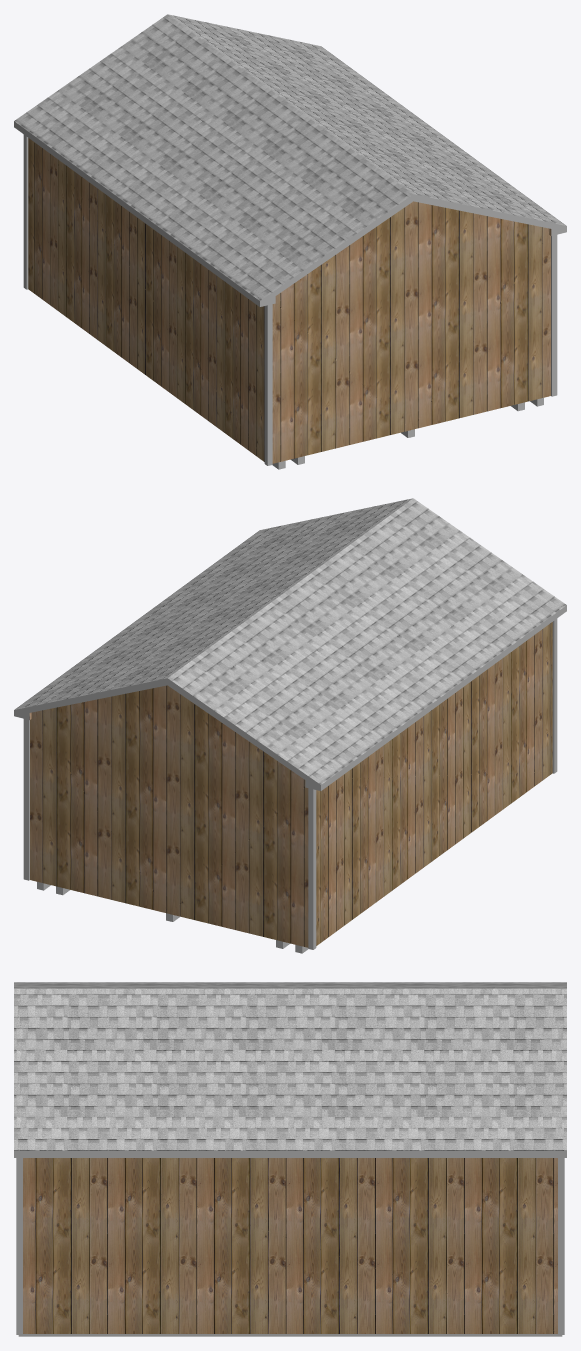
File: Single Garage A-frame_14x20.obj
3 renders of one model, top to bottom at view 1: azimuth 30°, elevation 25°; view 2: azimuth 150°, elevation 25°; view 3: azimuth 270°, elevation 25°, orthographic. The views are drawn at different scales.
Visible parts, largest first — view 1: Shed, Roof, Sides, Trim; view 2: Shed, Roof, Sides, Trim; view 3: Shed, Roof, Sides, Trim, Floor.
Part boxes in pixels (x1,y1,x2,y2): Shed: (28,138,551,463); Roof: (14,14,566,300); Sides: (14,121,566,306); Trim: (23,134,557,465); Shed: (29,622,552,947); Roof: (14,498,566,784); Sides: (14,605,566,790); Trim: (23,618,557,949); Shed: (23,1158,557,1333); Roof: (14,982,566,1150); Sides: (14,1151,566,1157); Trim: (16,1158,564,1334); Floor: (18,1334,562,1336).
Size of the model in its own units: 4.47 by 3.4 by 6.2.
